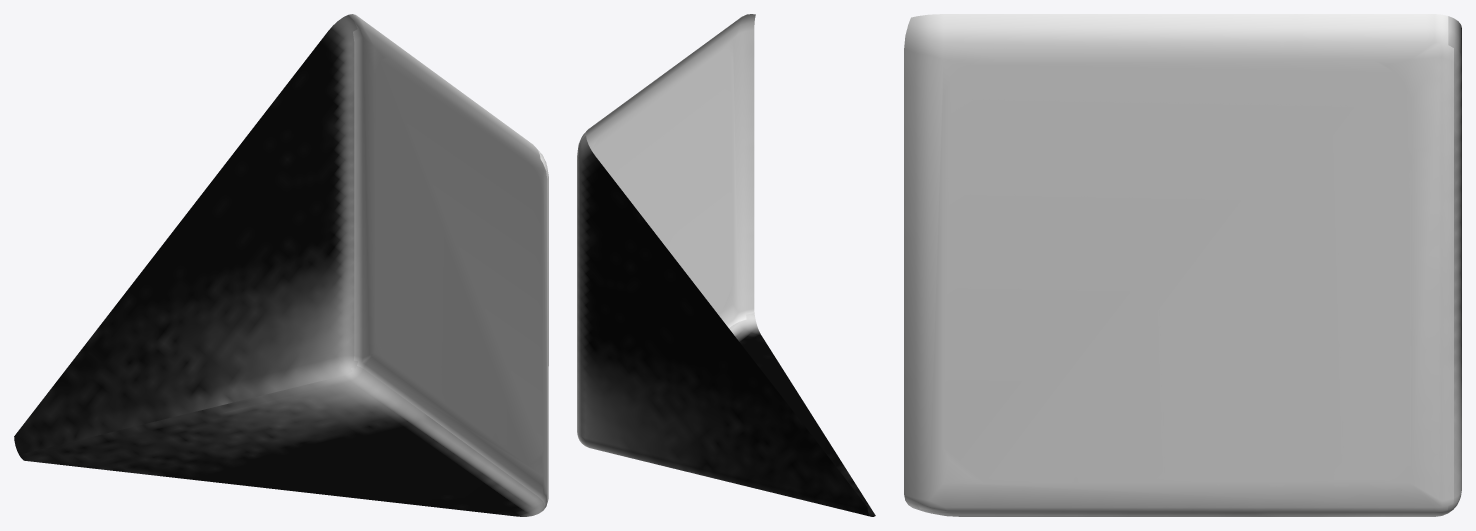
The model's file is corner.glb.
3 renders of one model, left to right at view 1: azimuth 30°, elevation 25°; view 2: azimuth 150°, elevation 25°; view 3: azimuth 270°, elevation 25°, orthographic. The views are drawn at different scales.
Parts seen in each view (by area): view 1: Corner Cut; view 2: Corner Cut; view 3: Corner Cut.
Part boxes in pixels (x1,y1,x2,y2): Corner Cut: (14, 14, 548, 516); Corner Cut: (577, 14, 875, 516); Corner Cut: (904, 14, 1461, 516).
Size of the model in its own units: 0.9528 by 0.9706 by 0.9714.
Materials: 1 (1 with a texture image).
